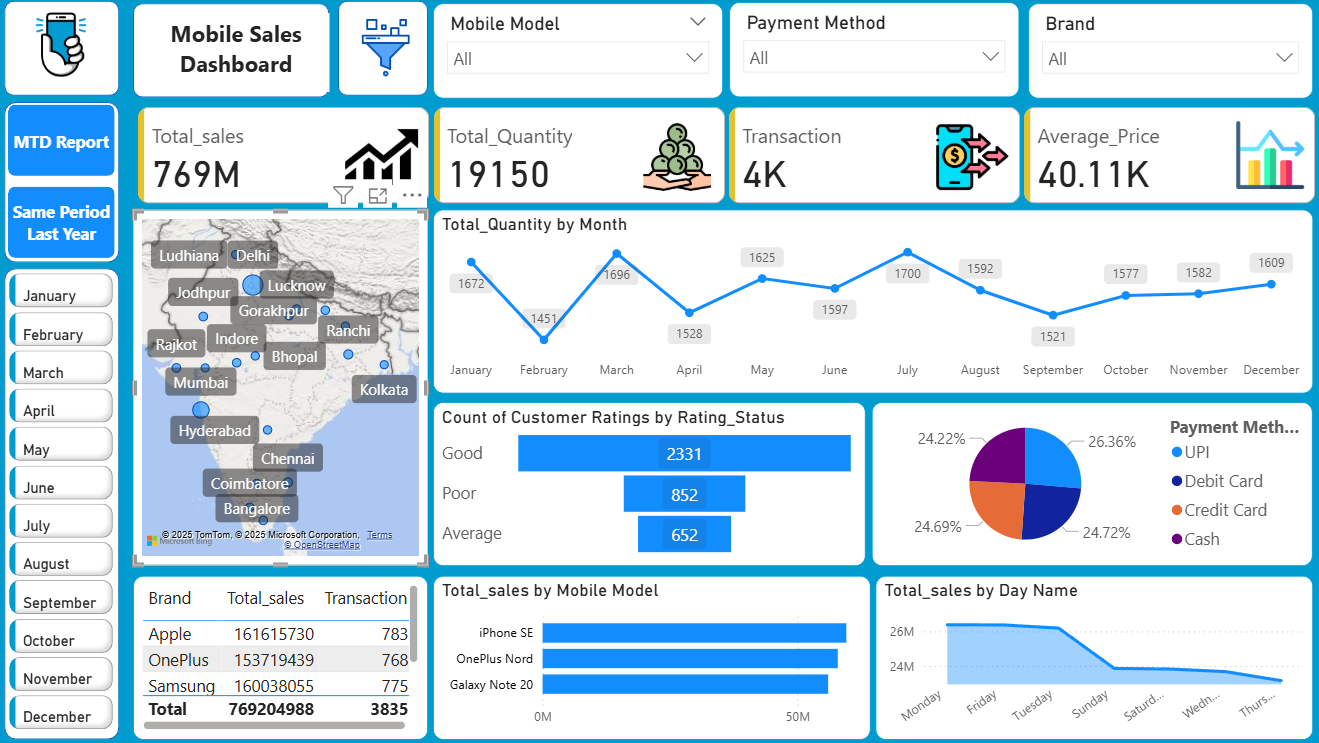

The dashboard page shown, as its layout file describes it:
{"tool":"powerbi","page":{"name":"Page 1","canvas":[1280,720],"ordinal":0},"visuals":[{"type":"shape","box":[6,4,111,91.7],"z":0},{"type":"image","box":[4.8,0,112.2,91.7],"z":1000},{"type":"shape","box":[6,261.8,111,454.8],"z":2000},{"type":"advancedSlicerVisual","fields":{"Values":["Custom_Calendar.Date.Variation.Date Hierarchy.Month"]},"box":[6,261.8,111,458.4],"z":3000},{"type":"shape","box":[6,101,111,155],"z":4000},{"type":"cardVisual","fields":{"Data":["Sales_Data.Total_sales","Sales_Data.Total_Quantity","Sales_Data.Transaction","Sales_Data.Average_Price"]},"box":[130.3,101.3,1149.7,103.8],"z":5000},{"type":"slicer","fields":{"Values":["Sales_Data.Mobile Model"]},"box":[419.8,6,279.9,91.7],"z":6000},{"type":"slicer","fields":{"Values":["Sales_Data.Payment Method"]},"box":[705.8,4.8,279.9,91.7],"z":7000},{"type":"shape","box":[328.2,3.6,86.9,91.7],"z":8000},{"type":"slicer","fields":{"Values":["Sales_Data.Brand"]},"box":[994.1,6,275.1,91.7],"z":9000},{"type":"image","box":[328.2,15.7,91.7,66.4],"z":10000},{"type":"shape","box":[130.3,6,189.4,91],"z":11000},{"type":"textbox","box":[139.9,15.7,179.8,76],"z":12000},{"type":"map","fields":{"Category":["Sales_Data.City"],"Size":["Sales_Data.Total_sales"]},"box":[130.3,205.1,284.7,343.8],"z":13000},{"type":"lineChart","fields":{"Category":["Custom_Calendar.Date.Variation.Date Hierarchy.Month"],"Y":["Sales_Data.Total_Quantity"]},"box":[419.8,205.1,849.3,177.3],"z":14000},{"type":"funnel","fields":{"Y":["CountNonNull(Sales_Data.Customer Ratings)"],"Category":["Sales_Data.Rating_Status"]},"box":[419.8,390.9,417.4,158],"z":15000},{"type":"pieChart","fields":{"Y":["Sales_Data.Transaction"],"Category":["Sales_Data.Payment Method"]},"box":[843.3,390.9,425.9,158],"z":16000},{"type":"clusteredBarChart","fields":{"Y":["Sales_Data.Total_sales"],"Category":["Sales_Data.Mobile Model"]},"box":[419.8,558.6,422.3,158],"z":17000},{"type":"areaChart","fields":{"Y":["Sales_Data.Total_sales"],"Category":["Custom_Calendar.Day Name"]},"box":[846.9,558.6,422.3,158],"z":18000},{"type":"tableEx","fields":{"Values":["Sales_Data.Brand","Sales_Data.Total_sales","Sales_Data.Transaction"]},"box":[130.3,558.6,284.7,158],"z":19000},{"type":"pageNavigator","box":[9.7,103.8,103.8,148.4],"z":20000}]}

Visuals, with their boxes in screenshot pixels (x1, y1, x2, y2), scaled from the page's 1280x720 canvas onto the 1319x743 screenshot:
shape: detection(6, 4, 121, 99)
image: detection(5, 0, 121, 95)
shape: detection(6, 270, 121, 739)
advancedSlicerVisual - Custom_Calendar.Date.Variation.Date Hierarchy.Month: detection(6, 270, 121, 742)
shape: detection(6, 104, 121, 264)
cardVisual - Sales_Data.Total_sales x Sales_Data.Total_Quantity: detection(134, 105, 1318, 212)
slicer - Sales_Data.Mobile Model: detection(433, 6, 721, 101)
slicer - Sales_Data.Payment Method: detection(727, 5, 1016, 100)
shape: detection(338, 4, 428, 98)
slicer - Sales_Data.Brand: detection(1024, 6, 1308, 101)
image: detection(338, 16, 433, 85)
shape: detection(134, 6, 329, 100)
textbox: detection(144, 16, 329, 95)
map - Sales_Data.City x Sales_Data.Total_sales: detection(134, 212, 428, 566)
lineChart - Custom_Calendar.Date.Variation.Date Hierarchy.Month x Sales_Data.Total_Quantity: detection(433, 212, 1308, 395)
funnel - CountNonNull(Sales_Data.Customer Ratings) x Sales_Data.Rating_Status: detection(433, 403, 863, 566)
pieChart - Sales_Data.Transaction x Sales_Data.Payment Method: detection(869, 403, 1308, 566)
clusteredBarChart - Sales_Data.Total_sales x Sales_Data.Mobile Model: detection(433, 576, 868, 739)
areaChart - Sales_Data.Total_sales x Custom_Calendar.Day Name: detection(873, 576, 1308, 739)
tableEx - Sales_Data.Brand x Sales_Data.Total_sales: detection(134, 576, 428, 739)
pageNavigator: detection(10, 107, 117, 260)
